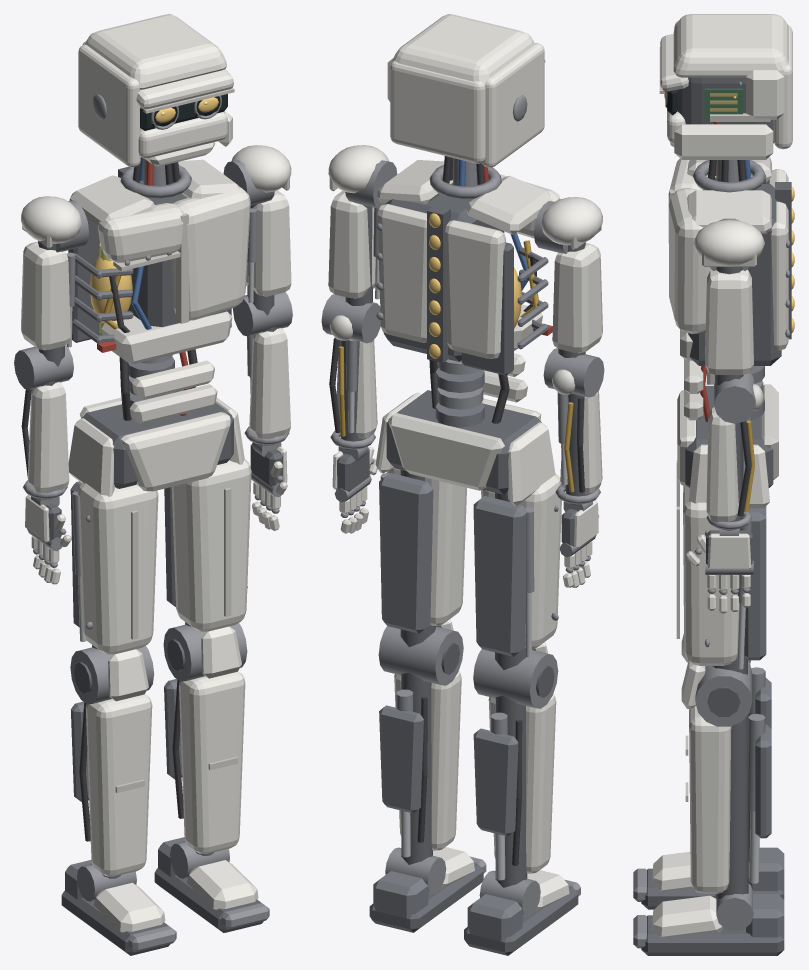
Rendered from unit_blank.glb.
3 views of the same model, side by side, from view 1: azimuth 30°, elevation 25°; view 2: azimuth 150°, elevation 25°; view 3: azimuth 270°, elevation 25° (orthographic). The views are drawn at different scales.
Parts seen in each view (by area): view 1: ceramic.004, ceramic, ceramic.002, ceramic.006, ceramic.012, ceramic.034, ceramic.008, ceramic.036, ceramic.026, ceramic.019, ceramic.027, ceramic*0.005 (+43 smaller); view 2: frame*1.4, ceramic.035, frame*1.003, ceramic.015, ceramic.014, ceramic.034, ceramic*0.9, ceramic.036, ceramic.002, ceramic.026, ceramic.006, ceramic (+43 smaller); view 3: ceramic.002, ceramic.034, ceramic, ceramic.018, ceramic.012, ceramic.038, frame.009, frame.002, ceramic.019, frame.003, ceramic*0.008, frame*1.4 (+40 smaller).
Boxes of the visible parts, x1,y1,x2,y2 form: ceramic.004: (78,483,158,654); ceramic: (171,459,251,631); ceramic.002: (179,671,245,853); ceramic.006: (85,694,152,876); ceramic.012: (171,187,250,320); ceramic.034: (84,14,226,89); ceramic.008: (121,412,230,491); ceramic.036: (78,44,140,167); ceramic.026: (21,241,70,350); ceramic.019: (249,328,290,439); ceramic.027: (27,382,69,493); ceramic*0.005: (101,311,232,364); frame*1.4: (379,473,433,633); ceramic.035: (390,61,485,163); frame*1.003: (473,496,526,656); ceramic.015: (445,220,505,358); ceramic.014: (377,204,426,342); ceramic.034: (392,14,534,85); ceramic*0.9: (388,413,504,490); ceramic.036: (482,43,544,167); ceramic.002: (394,671,461,850); ceramic.026: (552,243,602,353); ceramic.006: (488,694,556,873); ceramic: (386,467,466,625); ceramic.002: (689,706,731,893); ceramic.034: (673,14,788,77); ceramic: (683,486,739,665); ceramic.018: (705,269,753,374); ceramic.012: (668,188,711,333); ceramic.038: (674,124,773,159); frame.009: (688,184,781,365); frame.002: (715,714,748,899); ceramic.019: (706,407,738,522); frame.003: (641,915,784,955); ceramic*0.008: (687,190,771,233); frame*1.4: (744,506,766,660).
Bounding box in the file's own units: 0.56 × 1.79 × 0.294.
